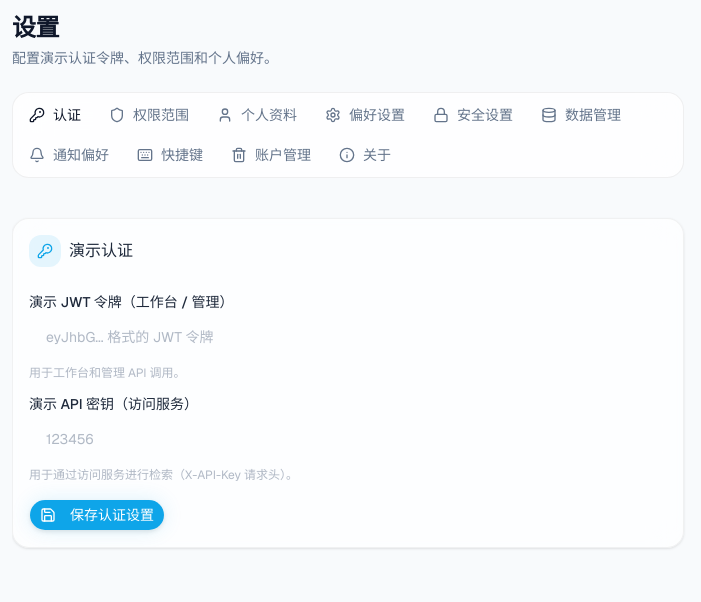
SettingsPage › populates internal scope inputs from store initial values
The image size is (701, 602).
Click the button "权限范围" at (149, 115), box [97,97,201,133]
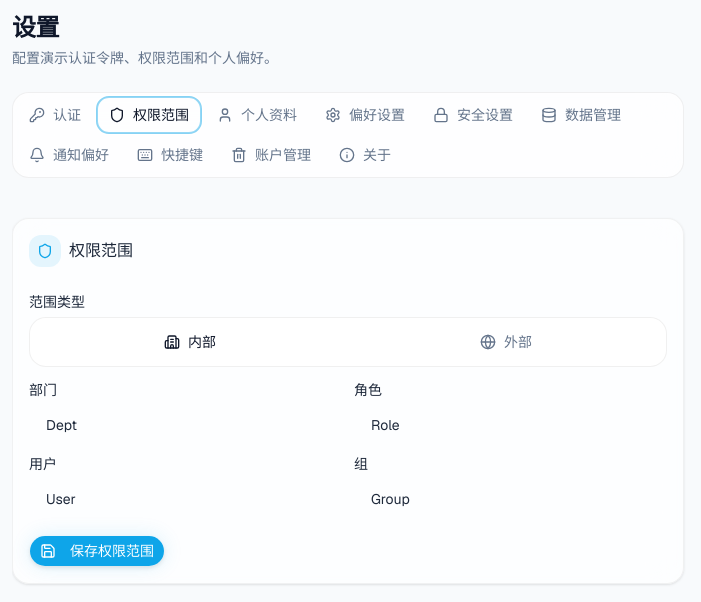
Check: the field with placeholder "工程部" below "部门" holds "Dept", box [29,405,342,445]
Check: the field with placeholder "knowledge_admin" below "角色" holds "Role", box [354,405,667,445]
Check: the field with placeholder "user@example.com" below "用户" holds "User", box [29,479,342,519]
